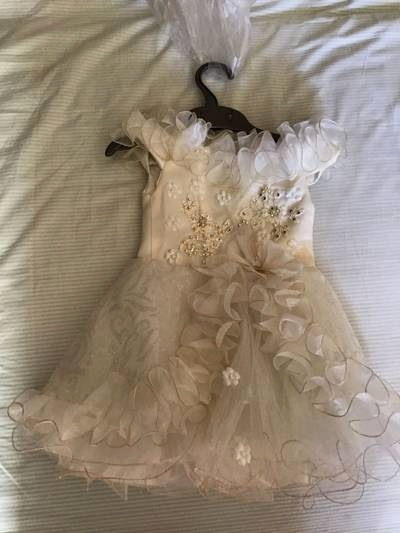Dress: (9, 67, 390, 519)
